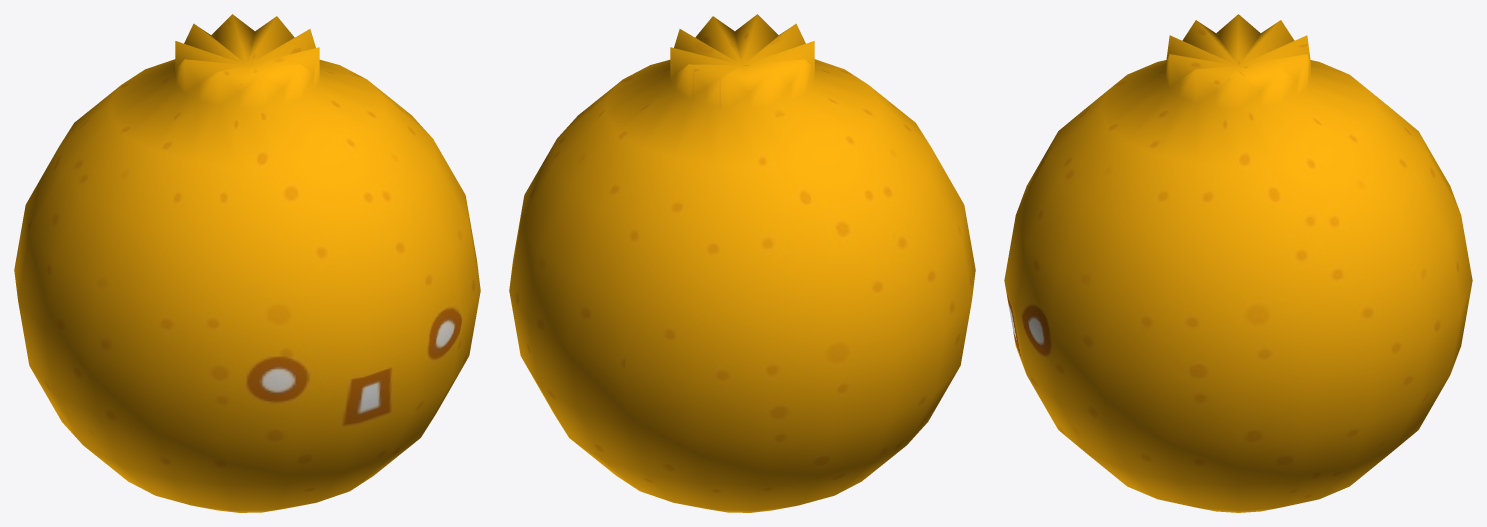
File: fruit_3.glb
The picture shows the model from 3 angles, left to right: view 1: azimuth 30°, elevation 25°; view 2: azimuth 150°, elevation 25°; view 3: azimuth 270°, elevation 25°; orthographic projection.
Parts seen in each view (by area): view 1: 3_FRUIT; view 2: 3_FRUIT; view 3: 3_FRUIT.
Boxes of the visible parts, <box> form: 3_FRUIT: <box>14,14,480,512</box>; 3_FRUIT: <box>509,14,975,512</box>; 3_FRUIT: <box>1004,14,1472,512</box>.
Bounding box in the file's own units: 2.1 × 2.22 × 2.1.
1 material, 1 textured.
